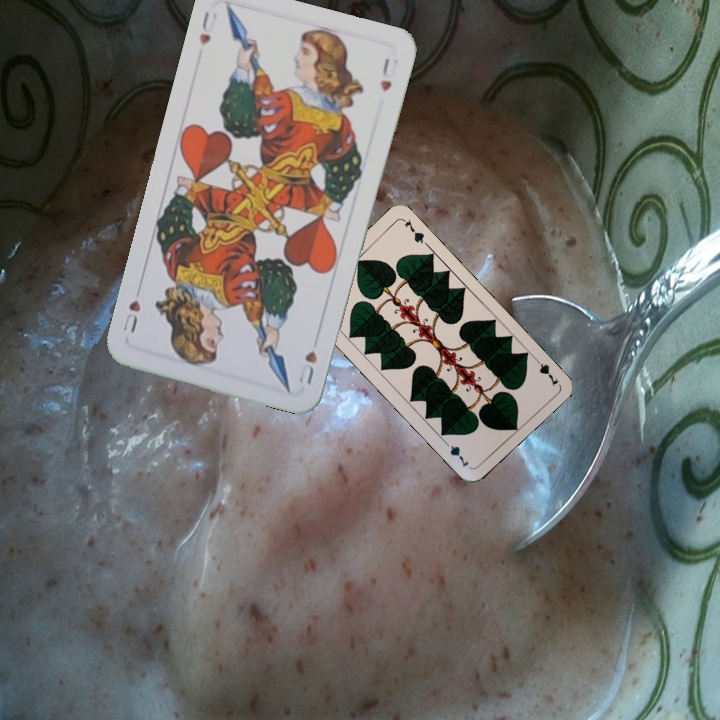G7: (529, 353, 561, 389)
HU: (295, 346, 320, 388), (195, 7, 214, 48)
